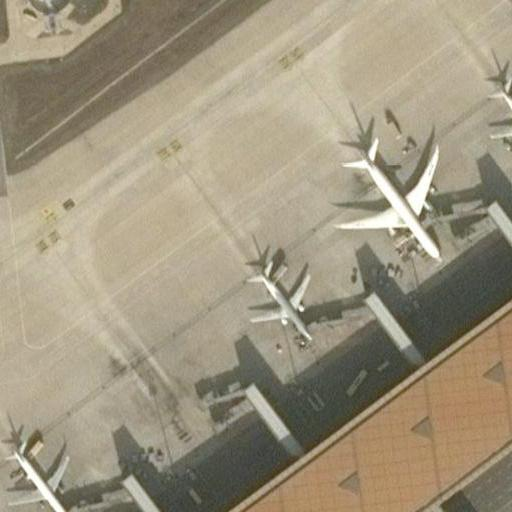Aircraft: (324, 128, 453, 262), (244, 248, 324, 345), (0, 429, 87, 512), (477, 65, 512, 163)
